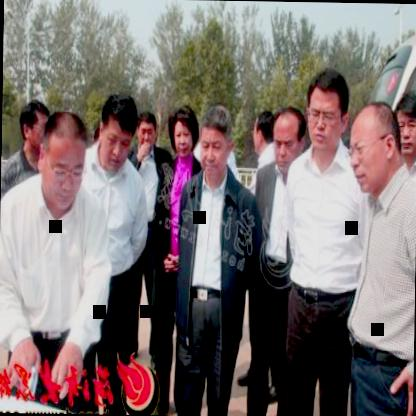head: (348, 98, 404, 195), (36, 104, 88, 204), (299, 60, 348, 157), (96, 87, 140, 174), (195, 110, 235, 180), (268, 102, 306, 168), (17, 96, 49, 163), (166, 101, 200, 163), (396, 85, 416, 165), (250, 108, 276, 156), (136, 108, 158, 160)
